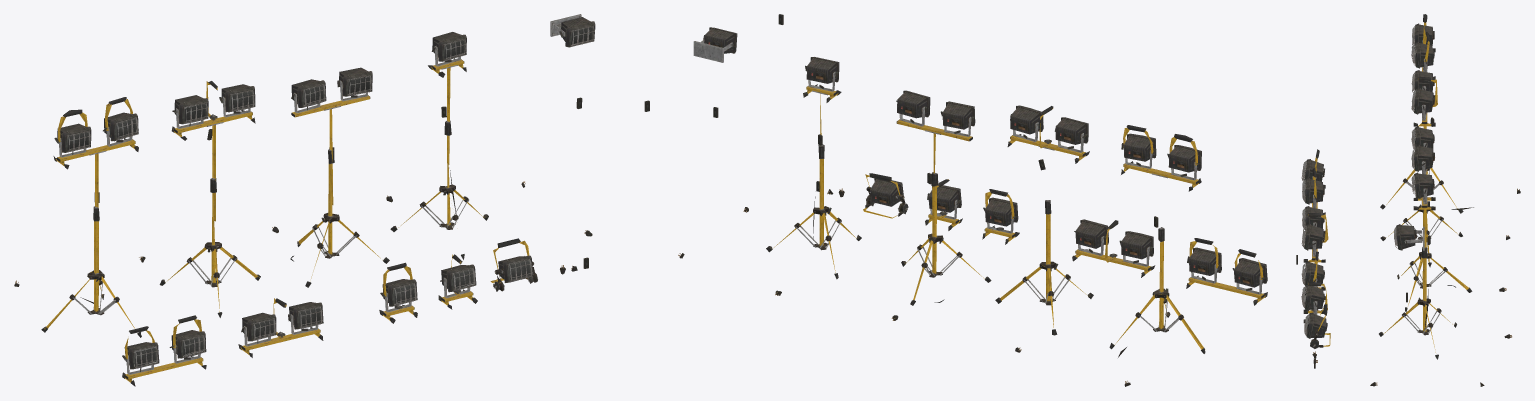
The model's file is floodlight.glb.
The picture shows the model from 3 angles, left to right: view 1: azimuth 30°, elevation 25°; view 2: azimuth 150°, elevation 25°; view 3: azimuth 270°, elevation 25°; orthographic projection. The views are drawn at different scales.
Visible parts, largest first — view 1: flood_lights_cable_a_geo, flood_lights_floor_double_a_light_01; view 2: flood_lights_cable_a_geo; view 3: flood_lights_cable_a_geo.
Boxes of the visible parts, box(x1,y1,x2,y2) form: flood_lights_cable_a_geo: box(14, 14, 649, 386); flood_lights_floor_double_a_light_01: box(66, 27, 593, 366); flood_lights_cable_a_geo: box(678, 14, 1267, 386); flood_lights_cable_a_geo: box(1296, 14, 1520, 386).
Size of the model in its own units: 4.57 by 1.81 by 2.04.
2 materials, 2 textured.
